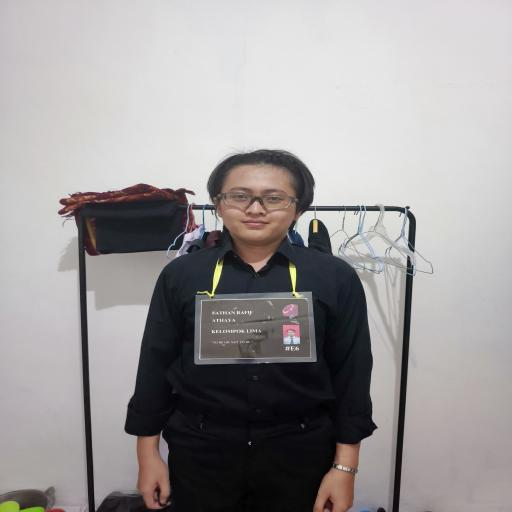celana_benar: (162, 408, 340, 512)
kemeja_salah: (134, 248, 383, 411)
nametag_ada: (182, 280, 327, 372)
